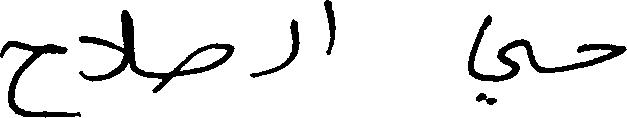X: (69, 5, 137, 117), (468, 10, 525, 109), (0, 36, 67, 117), (253, 14, 299, 82), (171, 38, 233, 83), (580, 39, 626, 72), (328, 0, 336, 59)
